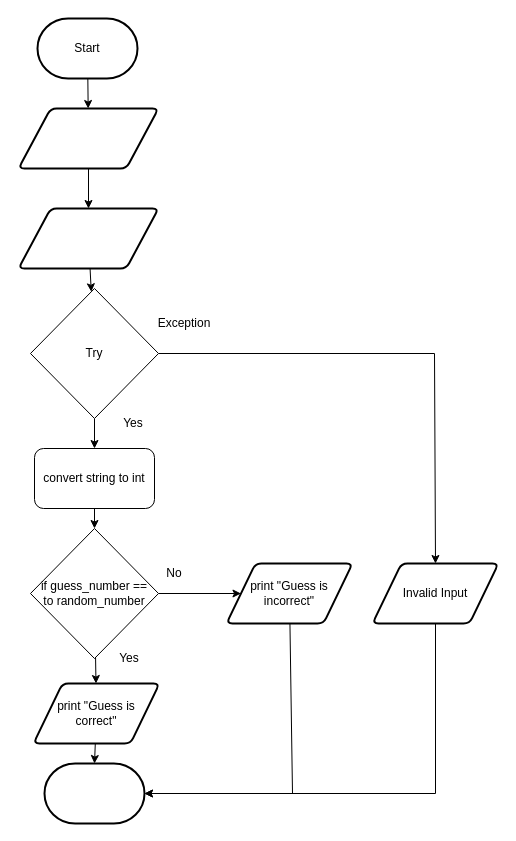
This 516x841 diagram has some shape labels left out. Each missing label, with the centre of its shape:
"Generate random number" belongs at point 88,138.
"Get guess_number" belongs at point 88,238.
"stop" belongs at point 94,793.
